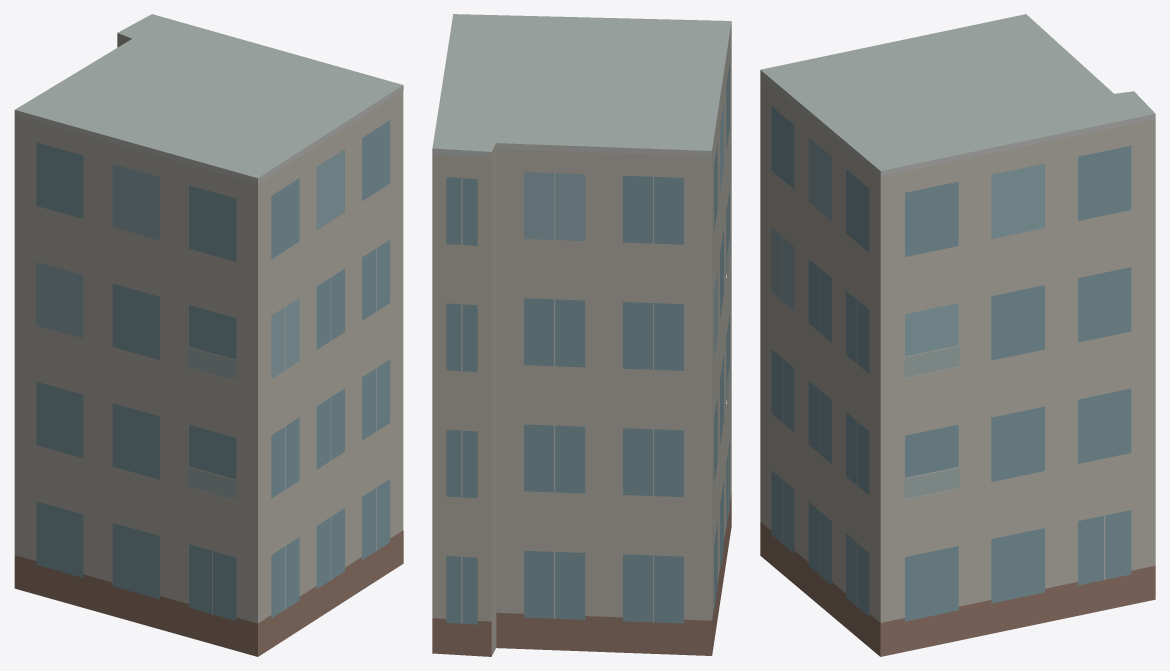
Rendered from survey-upis-32939204.glb.
3 views of the same model, side by side, from view 1: azimuth 30°, elevation 25°; view 2: azimuth 150°, elevation 25°; view 3: azimuth 270°, elevation 25° (orthographic). The views are drawn at different scales.
Parts seen in each view (by area): view 1: survey-upis-32939204.tmp; view 2: survey-upis-32939204.tmp; view 3: survey-upis-32939204.tmp.
Part boxes in pixels (x1,y1,x2,y2): survey-upis-32939204.tmp: (14,14,403,656); survey-upis-32939204.tmp: (432,14,731,656); survey-upis-32939204.tmp: (760,14,1155,656).
Bounding box in the file's own units: 14.91 × 21.5 × 15.87.
